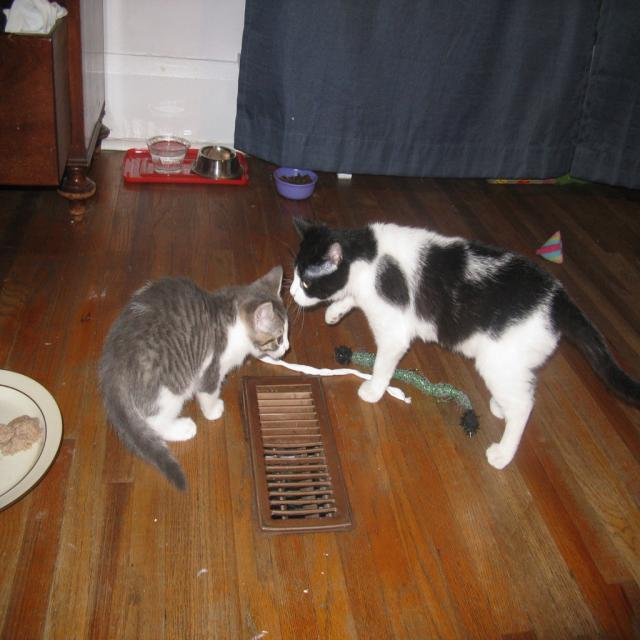non-organic waste: (0, 340, 67, 533)
